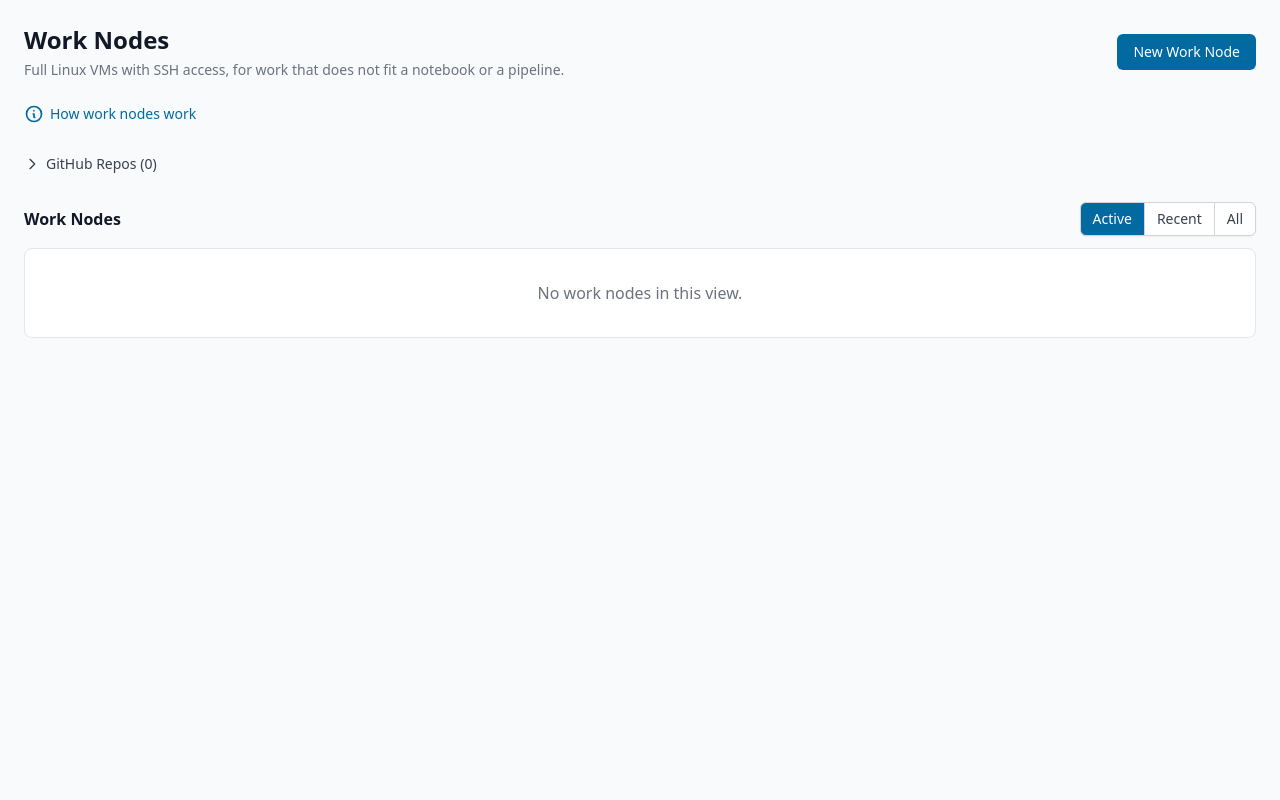
it: WorkNodesPage launch dialog: shape and ordering › Advanced expander starts collapsed and reveals the raw machine list when clicked
Click the button "New Work Node" at (1187, 52), box [1117,34,1256,70]
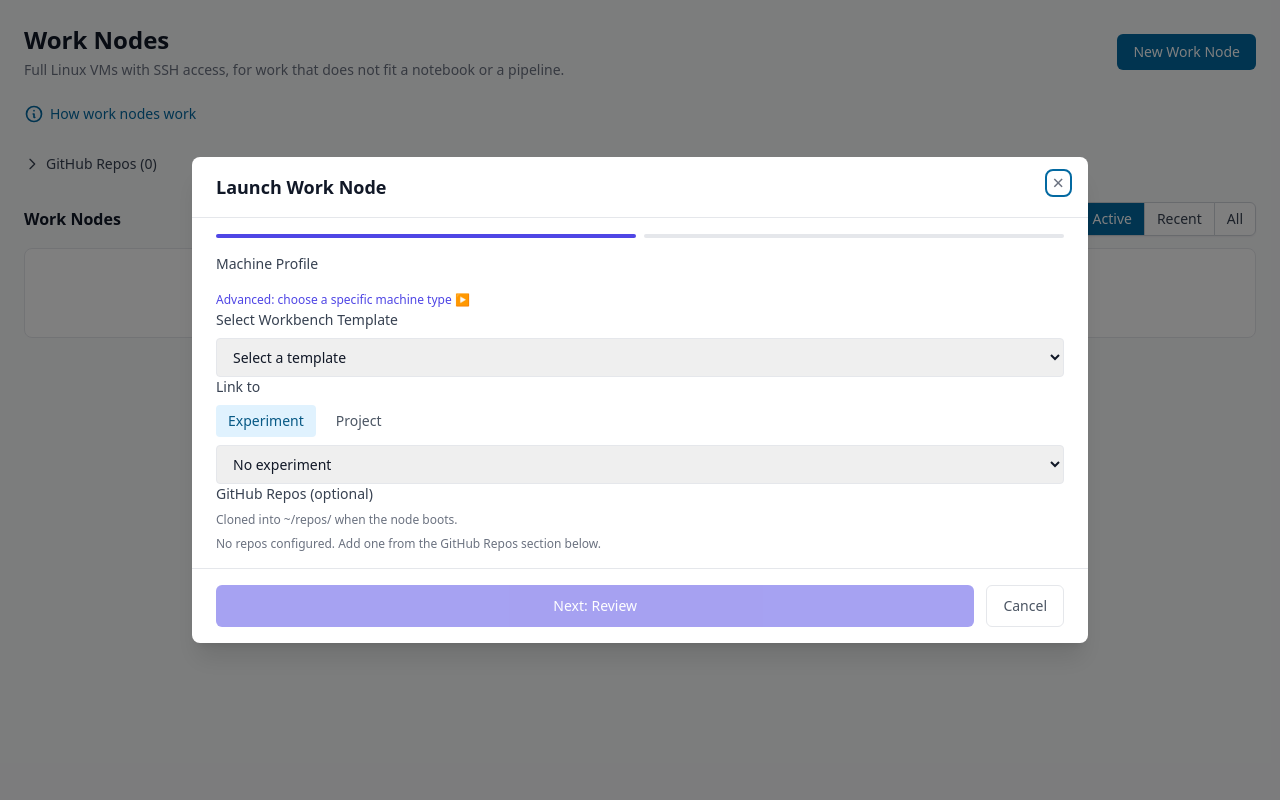
Check: the button "n1-standard-8-nvidia-tesla-t4" is not shown
Check: the heading "Machine Profile" is shown, box [216,254,318,273]
Click the button "Advanced: choose a specific machine type ▶" at (343, 300), box [216,292,470,308]
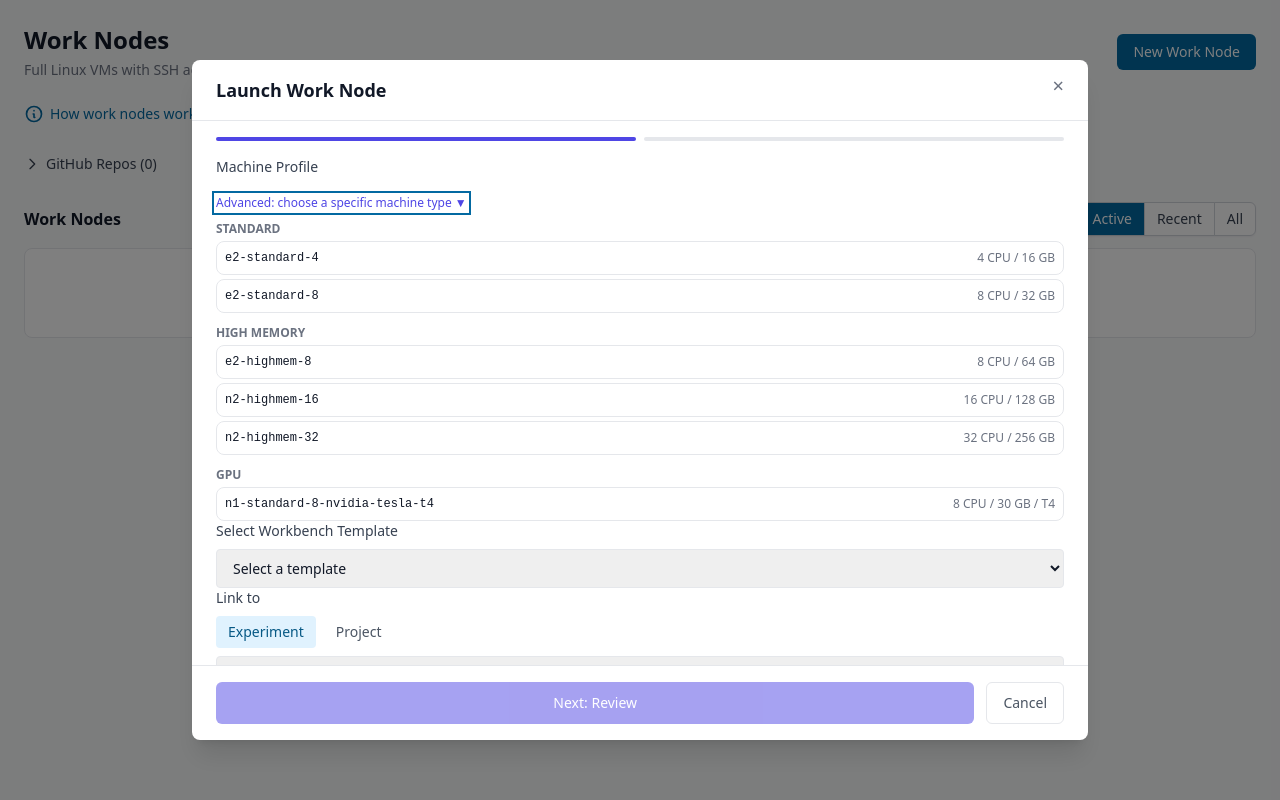
Check: the button "n1-standard-8-nvidia-tesla-t4 8 CPU / 30 GB / T4" is shown, box [216,487,1064,521]
